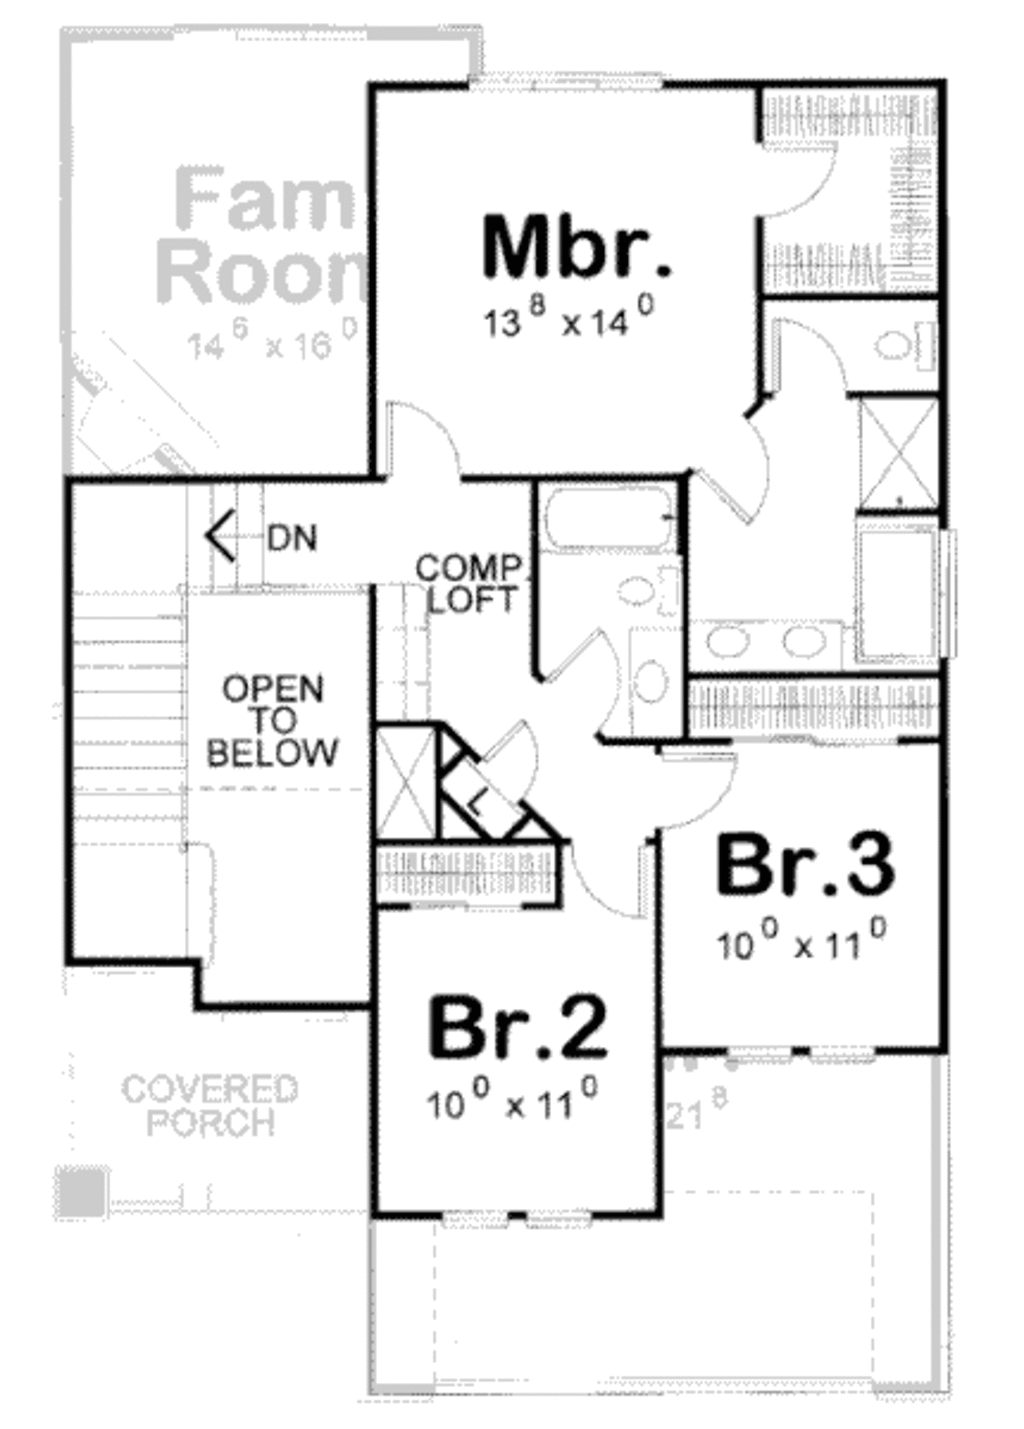door: (682, 424, 780, 533), (541, 621, 628, 742), (750, 309, 856, 407), (665, 746, 758, 849), (378, 398, 478, 487), (550, 833, 652, 921), (469, 711, 550, 808), (756, 133, 837, 227)
large_sink: (858, 304, 932, 387), (610, 564, 684, 627)
small_sink: (693, 618, 856, 679)
stairs: (74, 477, 365, 955)
tub: (537, 490, 678, 553)
window: (719, 1034, 793, 1077), (437, 1197, 515, 1235), (526, 1203, 602, 1240), (819, 1035, 867, 1068)
